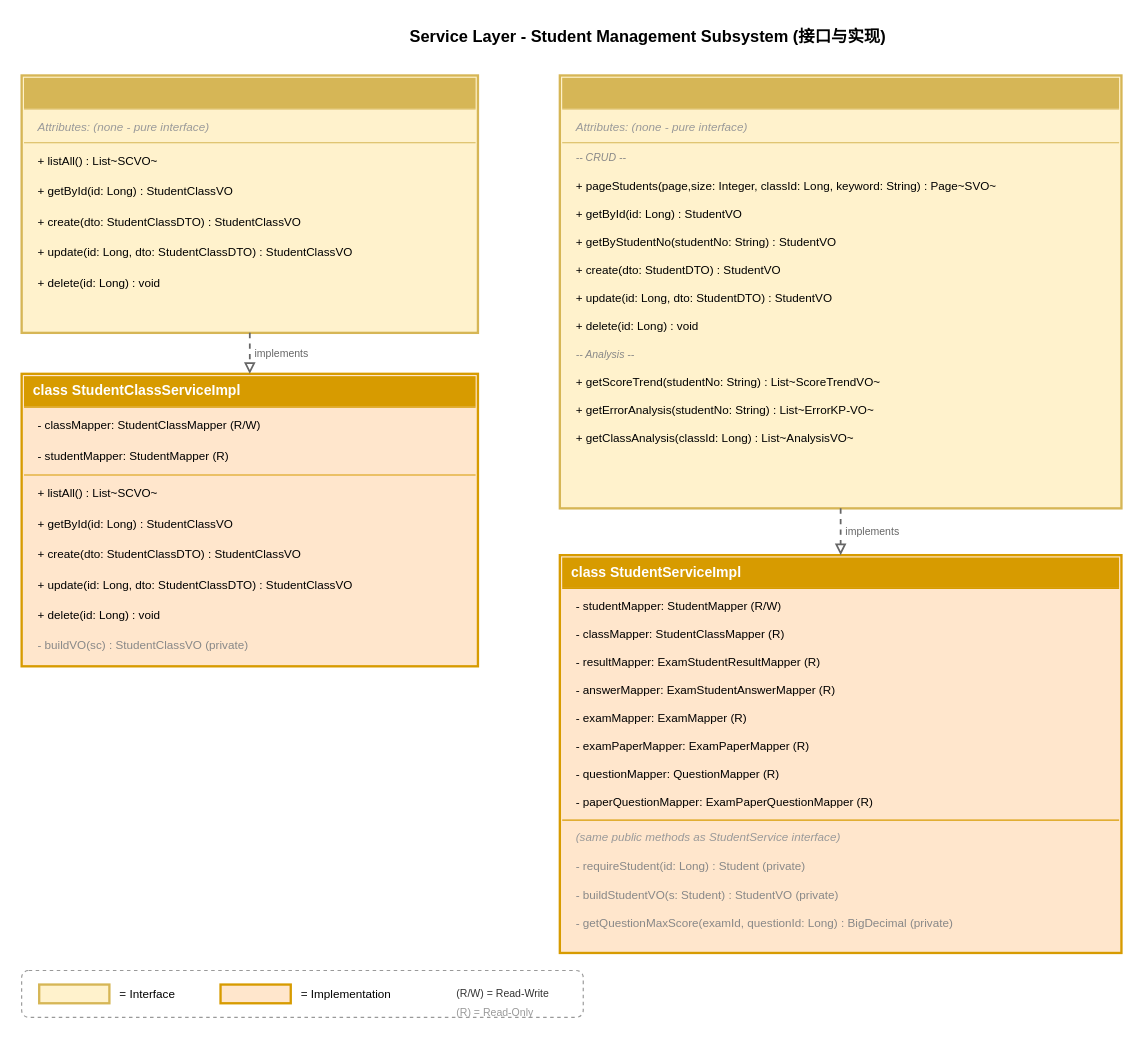
The diagram is 1142 pixels wide and 1041 high, and some of its shapes have lost their labels. The shapes that lost their labels are listed below. From the top down, each one's centre as x and y in pixels, then its label:
(x=249, y=92): interface StudentClassService
(x=840, y=92): interface StudentService
